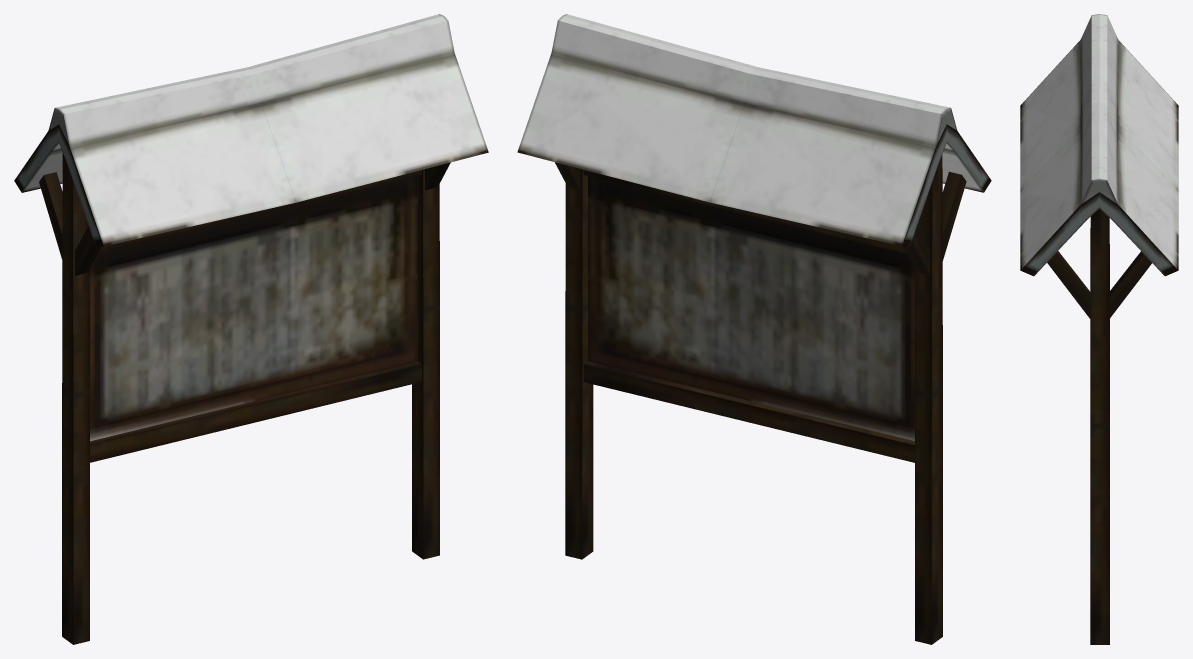
The picture shows the model from 3 angles, left to right: view 1: azimuth 30°, elevation 25°; view 2: azimuth 150°, elevation 25°; view 3: azimuth 270°, elevation 25°; orthographic projection. The views are drawn at different scales.
Parts seen in each view (by area): view 1: Sphere01; view 2: Sphere01; view 3: Sphere01.
Part boxes in pixels (<box>): Sphere01: <box>14,14,488,644</box>; Sphere01: <box>517,14,991,644</box>; Sphere01: <box>1020,14,1178,644</box>.
Bounding box in the file's own units: 2.27 × 3.01 × 0.9184.
